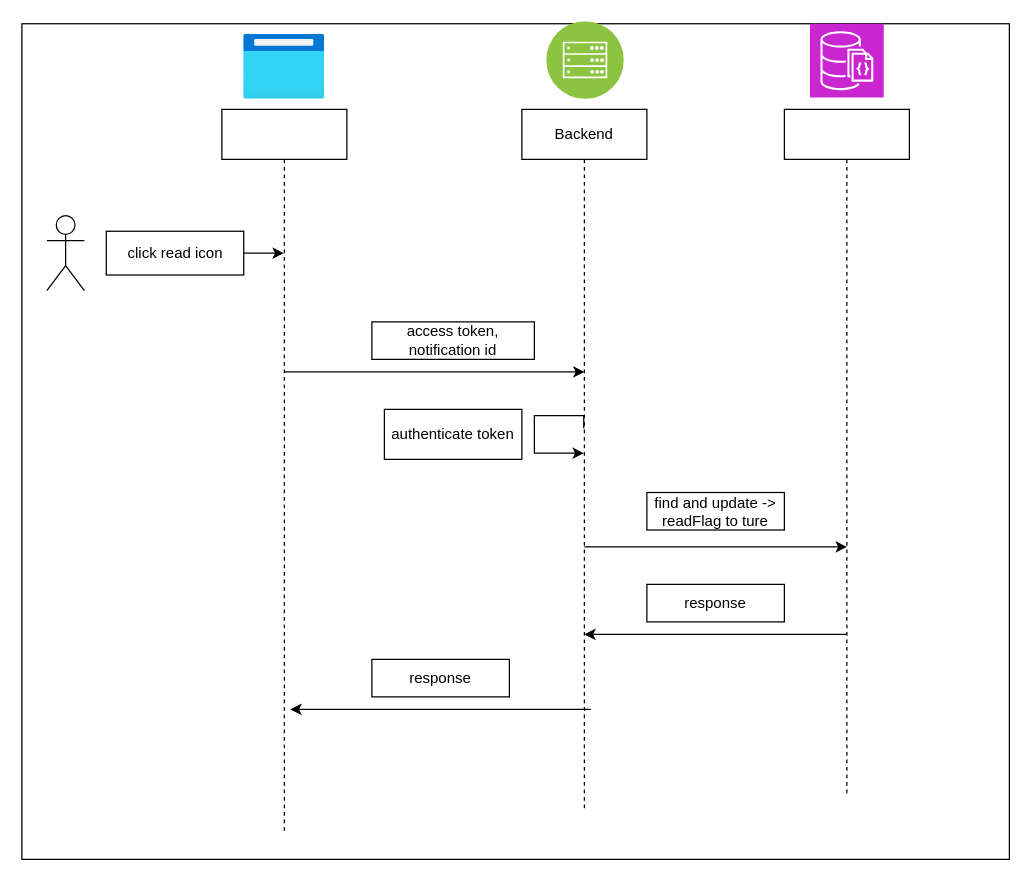
Some shapes in this 1031 by 881 pixel diagram are drawn without their labels. The shapes that lost their labels are listed below. From the top down, each one's box as (x1, y1, x2, y2) in pixels, then its label:
(46, 214, 84, 291): User
(221, 108, 347, 834): Frontend
(783, 108, 909, 797): Database
